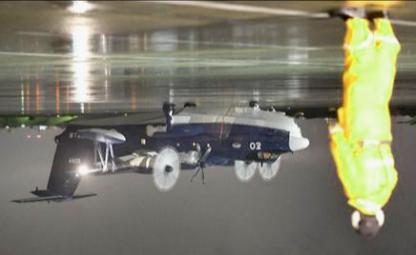Tu95: (6, 100, 310, 204)
